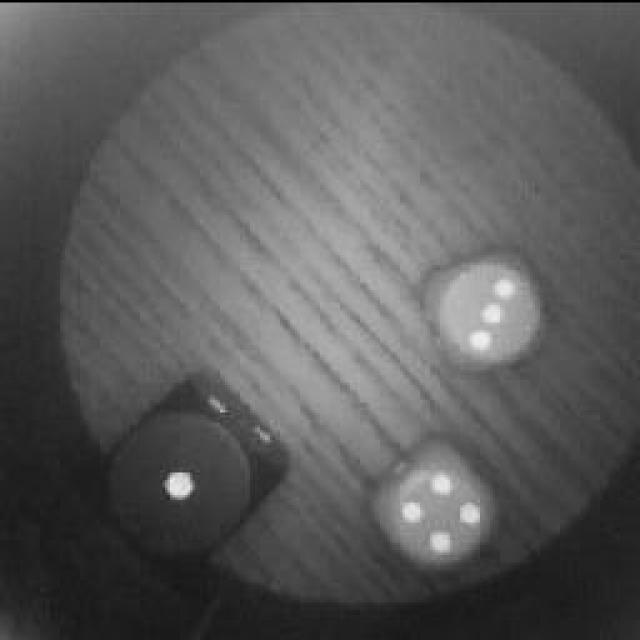dice_1: (97, 388, 275, 562)
dice_3: (417, 242, 545, 372)
dice_4: (372, 425, 512, 567)
